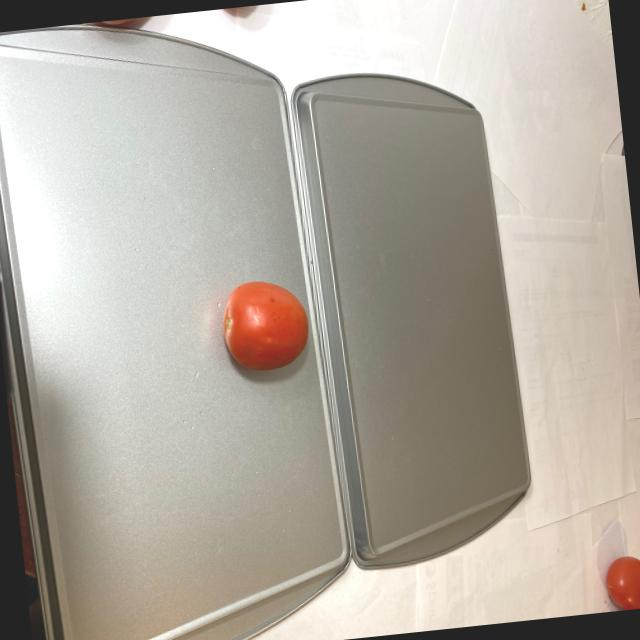tomato: (216, 272, 314, 373), (584, 547, 640, 610)
